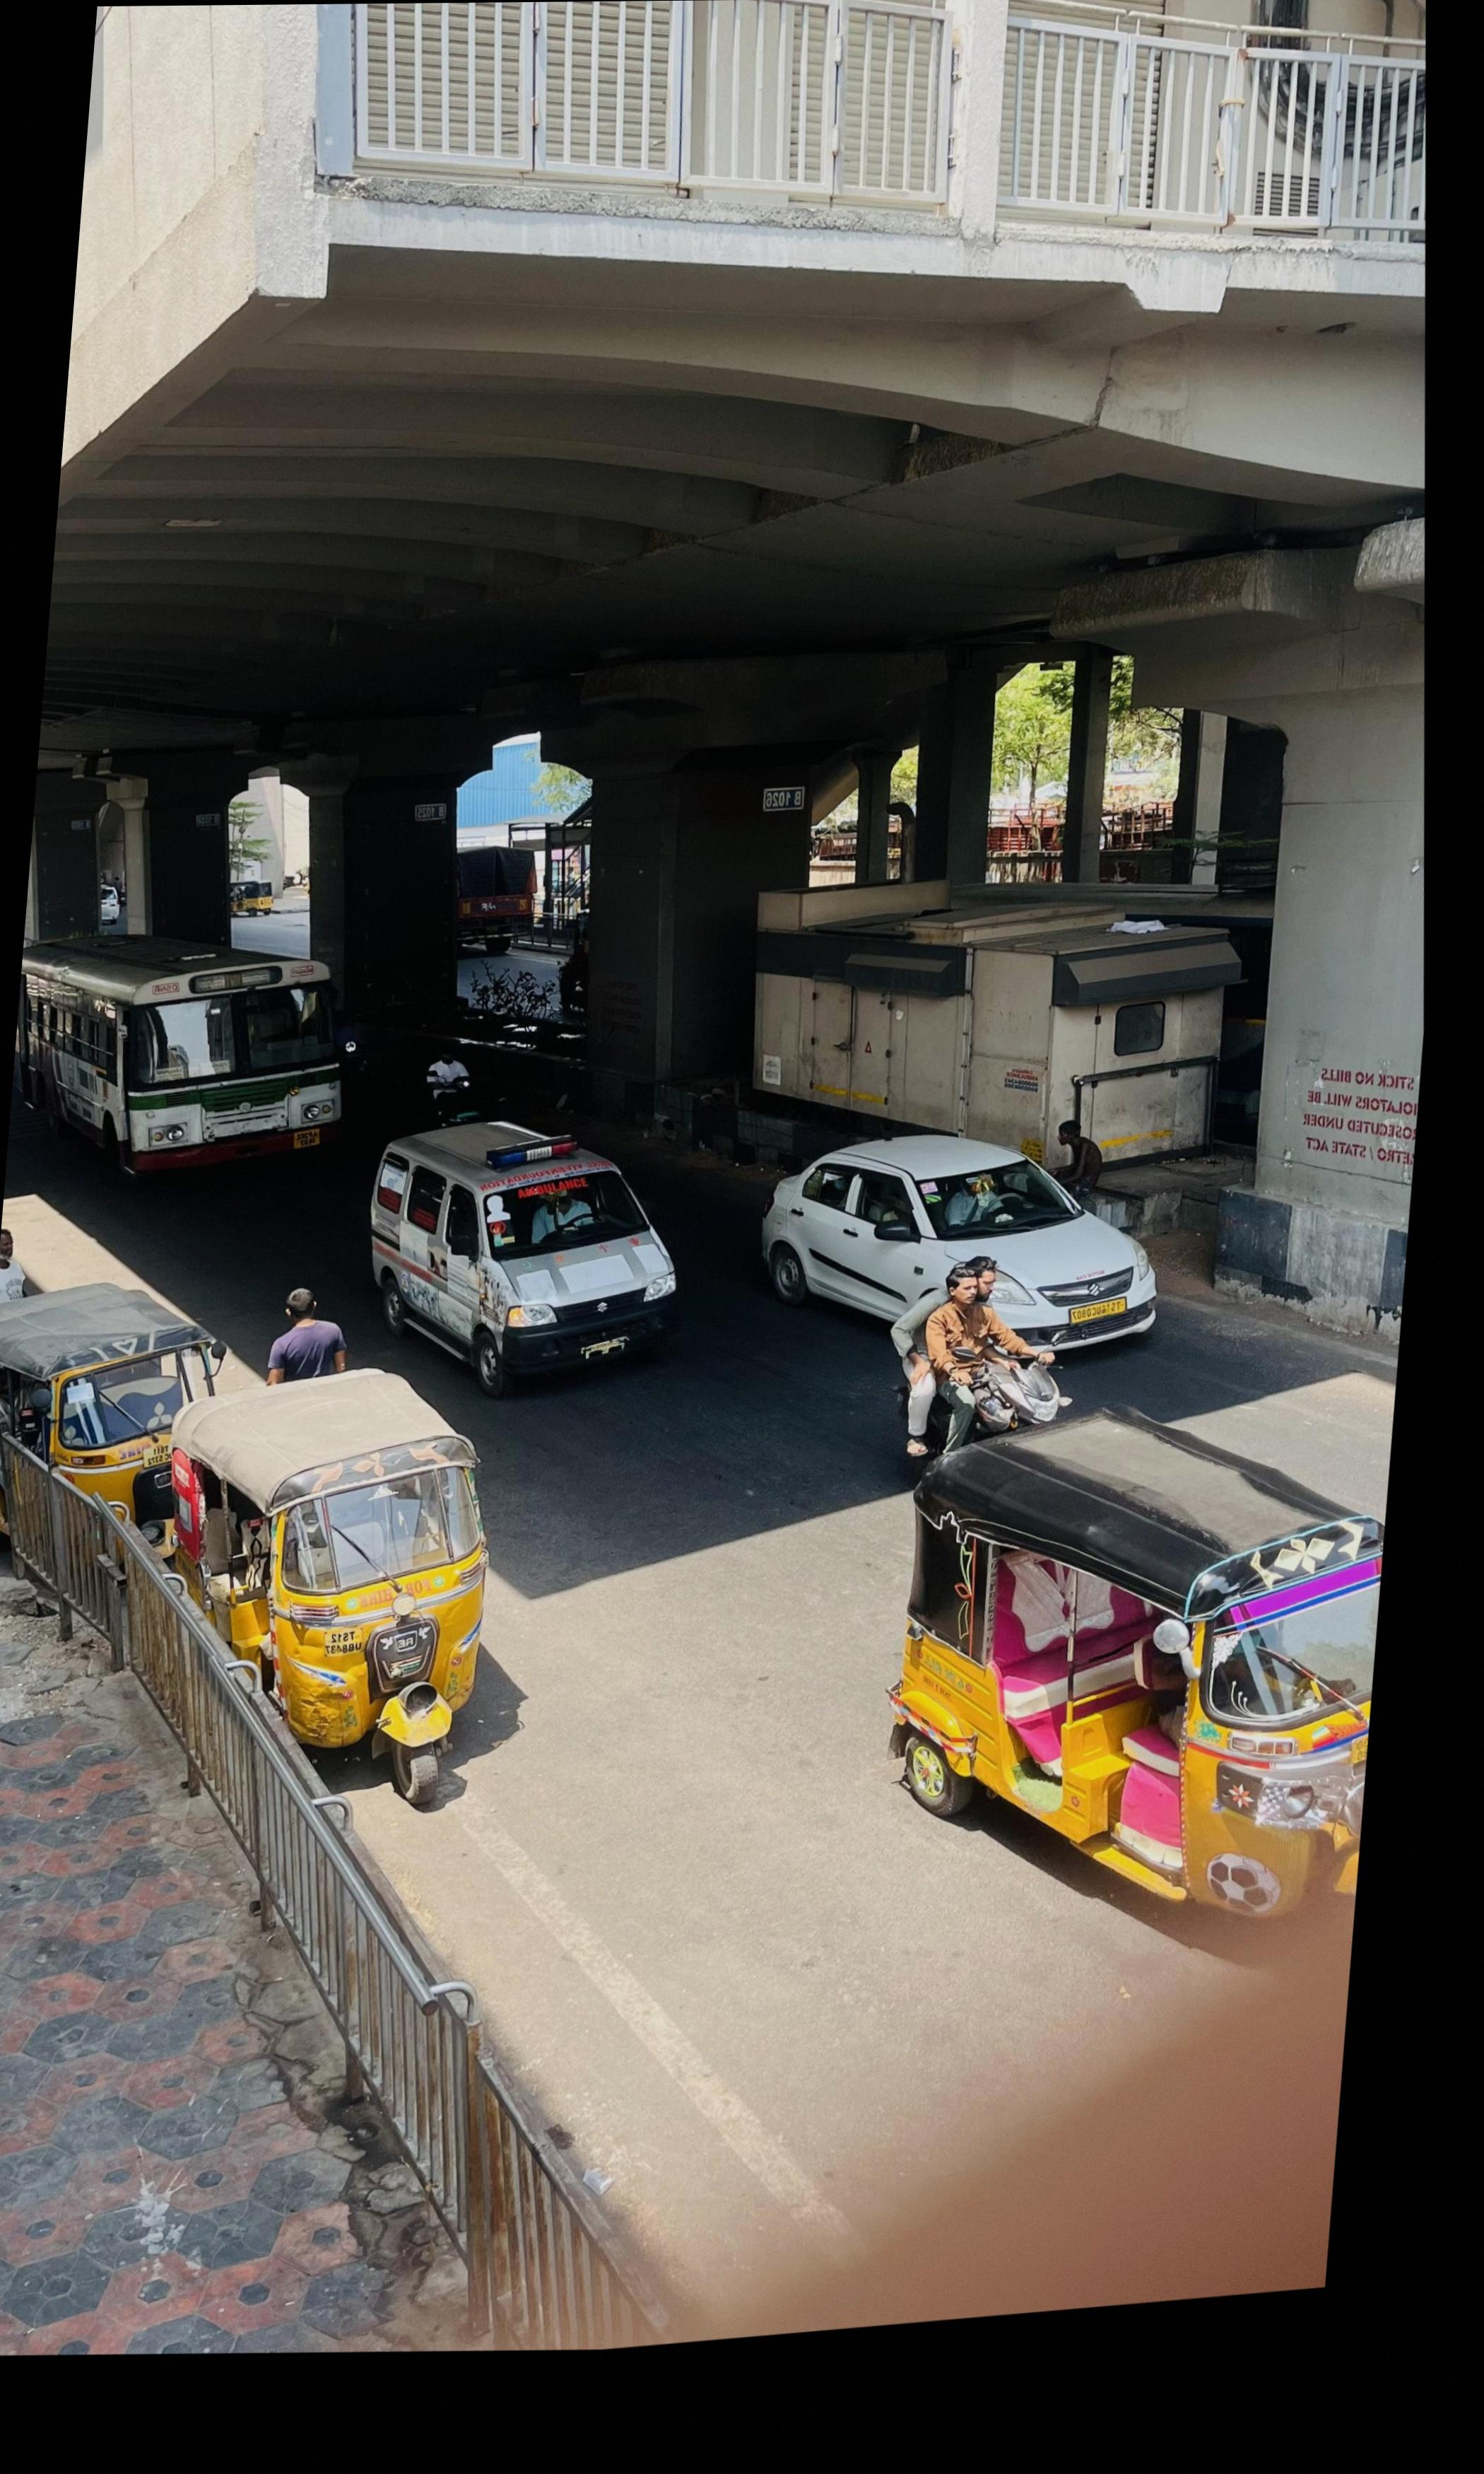ambulance: (364, 1138, 685, 1394)
